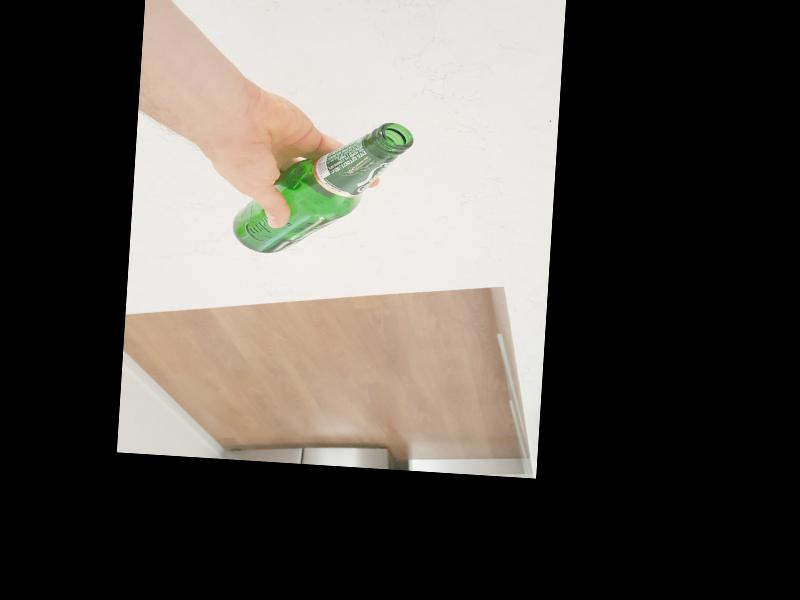Beer: (232, 111, 416, 261)
